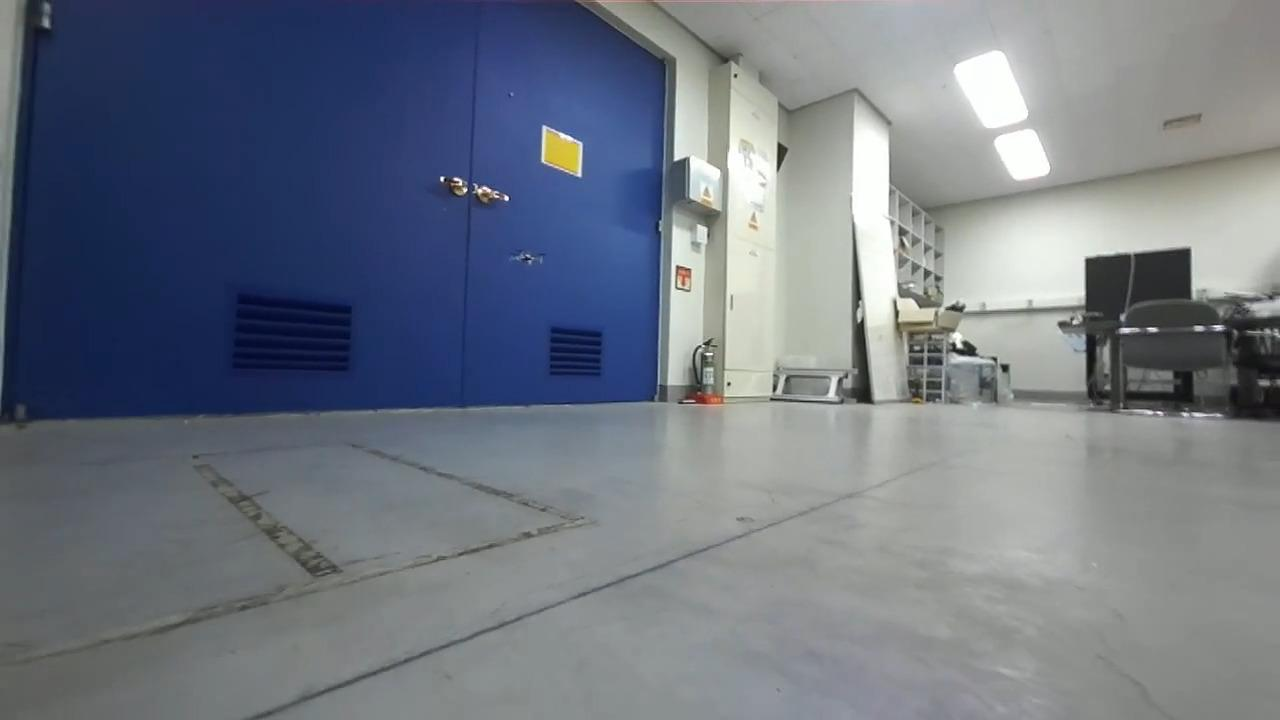crazyflie: (499, 243, 550, 273)
